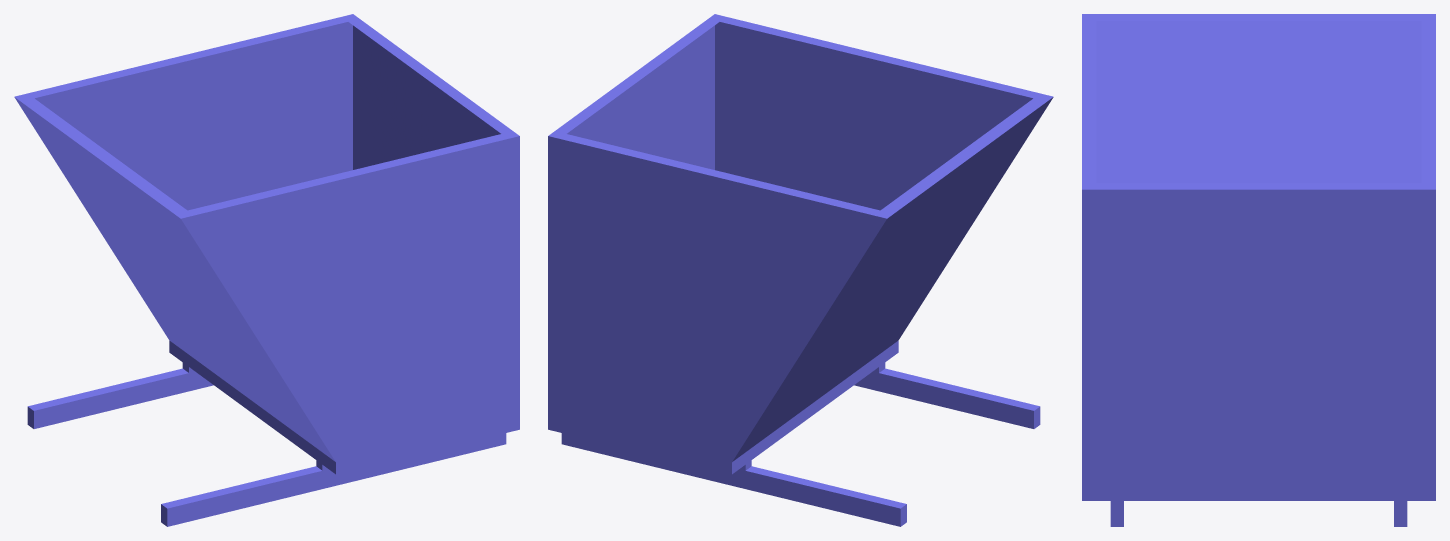
Rendered from bleue.glb.
3 renders of one model, left to right at view 1: azimuth 30°, elevation 25°; view 2: azimuth 150°, elevation 25°; view 3: azimuth 270°, elevation 25°, orthographic. The views are drawn at different scales.
Visible parts, largest first — view 1: imagetostl_mesh1, imagetostl_mesh19, imagetostl_mesh0, imagetostl_mesh34, imagetostl_mesh33, imagetostl_mesh16, imagetostl_mesh12, imagetostl_mesh27, imagetostl_mesh28, imagetostl_mesh7, imagetostl_mesh9; view 2: imagetostl_mesh19, imagetostl_mesh1, imagetostl_mesh0, imagetostl_mesh34, imagetostl_mesh33, imagetostl_mesh14, imagetostl_mesh15, imagetostl_mesh29, imagetostl_mesh28, imagetostl_mesh9, imagetostl_mesh7; view 3: imagetostl_mesh34, imagetostl_mesh0, imagetostl_mesh33, imagetostl_mesh31.
Boxes of the visible parts, x1=… form: imagetostl_mesh1: x1=181, y1=136, x2=519, y2=462; imagetostl_mesh19: x1=35, y1=22, x2=352, y2=210; imagetostl_mesh0: x1=14, y1=97, x2=335, y2=461; imagetostl_mesh34: x1=353, y1=25, x2=500, y2=169; imagetostl_mesh33: x1=14, y1=14, x2=519, y2=218; imagetostl_mesh16: x1=167, y1=433, x2=506, y2=526; imagetostl_mesh12: x1=34, y1=367, x2=213, y2=428; imagetostl_mesh27: x1=336, y1=417, x2=519, y2=474; imagetostl_mesh28: x1=169, y1=340, x2=335, y2=474; imagetostl_mesh7: x1=28, y1=368, x2=188, y2=410; imagetostl_mesh9: x1=161, y1=466, x2=321, y2=508; imagetostl_mesh19: x1=548, y1=136, x2=886, y2=462; imagetostl_mesh1: x1=715, y1=22, x2=1032, y2=210; imagetostl_mesh0: x1=732, y1=97, x2=1053, y2=461; imagetostl_mesh34: x1=567, y1=25, x2=714, y2=169; imagetostl_mesh33: x1=548, y1=14, x2=1053, y2=218; imagetostl_mesh14: x1=561, y1=433, x2=900, y2=526; imagetostl_mesh15: x1=854, y1=367, x2=1033, y2=428; imagetostl_mesh29: x1=548, y1=417, x2=731, y2=474; imagetostl_mesh28: x1=732, y1=340, x2=898, y2=474; imagetostl_mesh9: x1=879, y1=368, x2=1039, y2=410; imagetostl_mesh7: x1=746, y1=466, x2=906, y2=508; imagetostl_mesh34: x1=1082, y1=189, x2=1435, y2=487; imagetostl_mesh0: x1=1096, y1=21, x2=1421, y2=183; imagetostl_mesh33: x1=1082, y1=14, x2=1435, y2=189; imagetostl_mesh31: x1=1082, y1=488, x2=1435, y2=500.
Bounding box in the file's own units: 1.14 × 1.02 × 0.9724.
